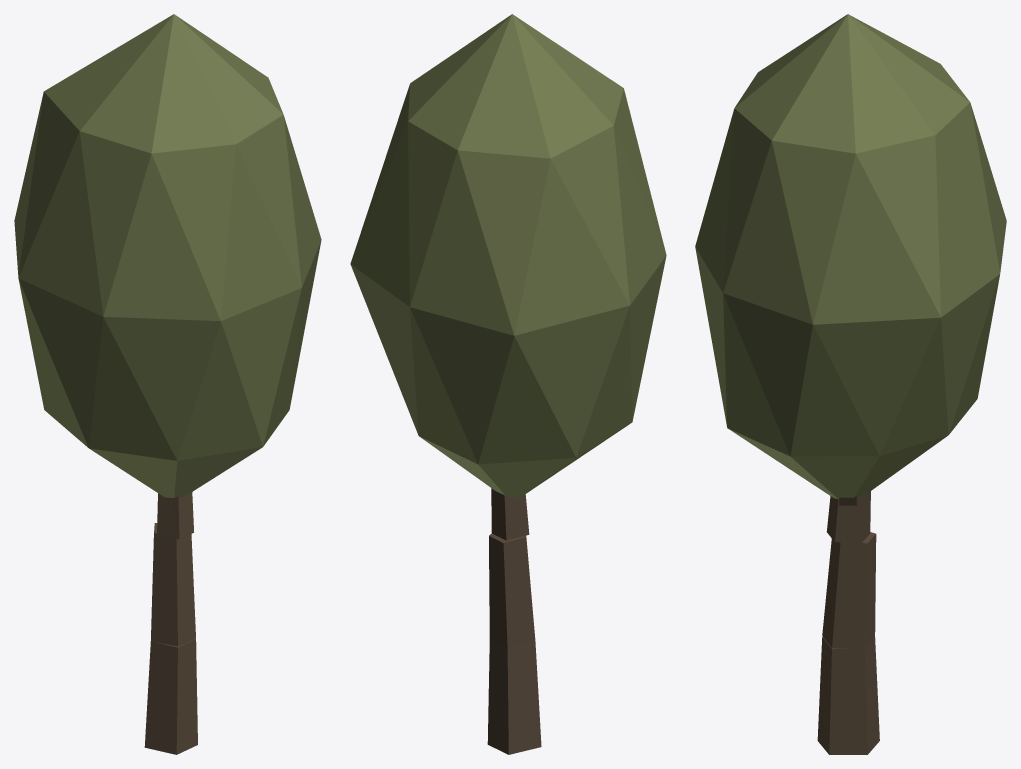
3 renders of one model, left to right at view 1: azimuth 30°, elevation 25°; view 2: azimuth 150°, elevation 25°; view 3: azimuth 270°, elevation 25°, orthographic.
Visible parts, largest first — view 1: growth-previous; view 2: growth-previous; view 3: growth-previous.
Part boxes in pixels (left/top/right/bottom): growth-previous: left=14, top=14, right=321, bottom=754; growth-previous: left=350, top=14, right=666, bottom=754; growth-previous: left=695, top=14, right=1006, bottom=754.
Bounding box in the file's own units: 3.84 × 9.99 × 3.85.
